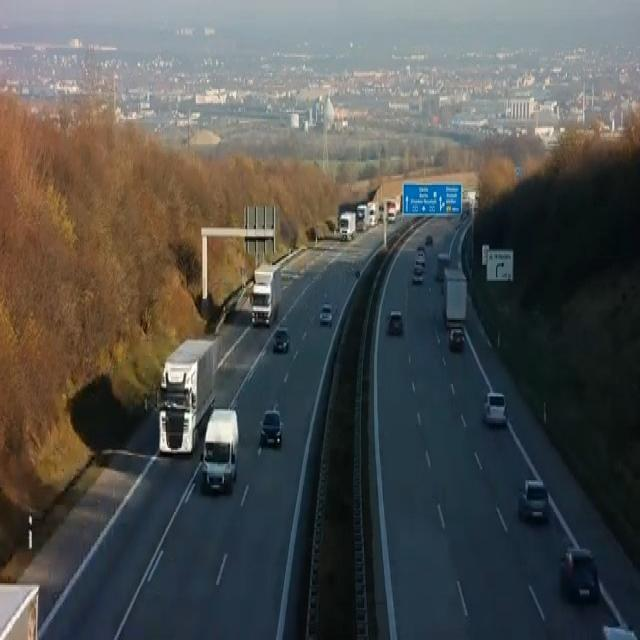car: (559, 548, 599, 602), (518, 478, 549, 523), (259, 409, 283, 446), (483, 391, 507, 425), (272, 329, 289, 352), (448, 326, 464, 350), (388, 310, 403, 334), (319, 302, 332, 326), (412, 266, 423, 282), (425, 235, 432, 245)
truck: (157, 334, 221, 455), (200, 407, 239, 493), (251, 262, 281, 326), (442, 267, 467, 327), (339, 210, 355, 240), (367, 201, 379, 226), (356, 203, 367, 229)
